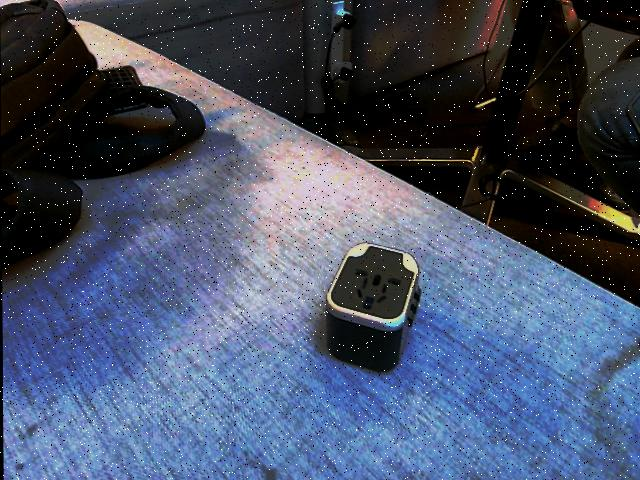adapter: (322, 241, 421, 371)
